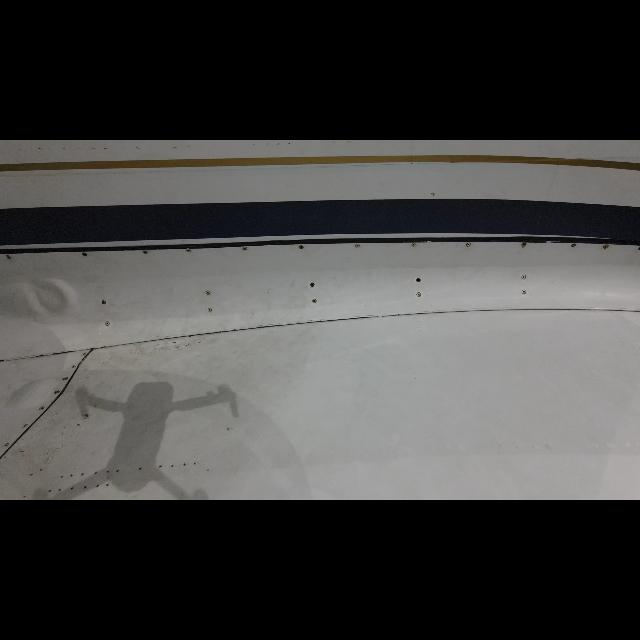Missing Fastener: (414, 275, 422, 283)
